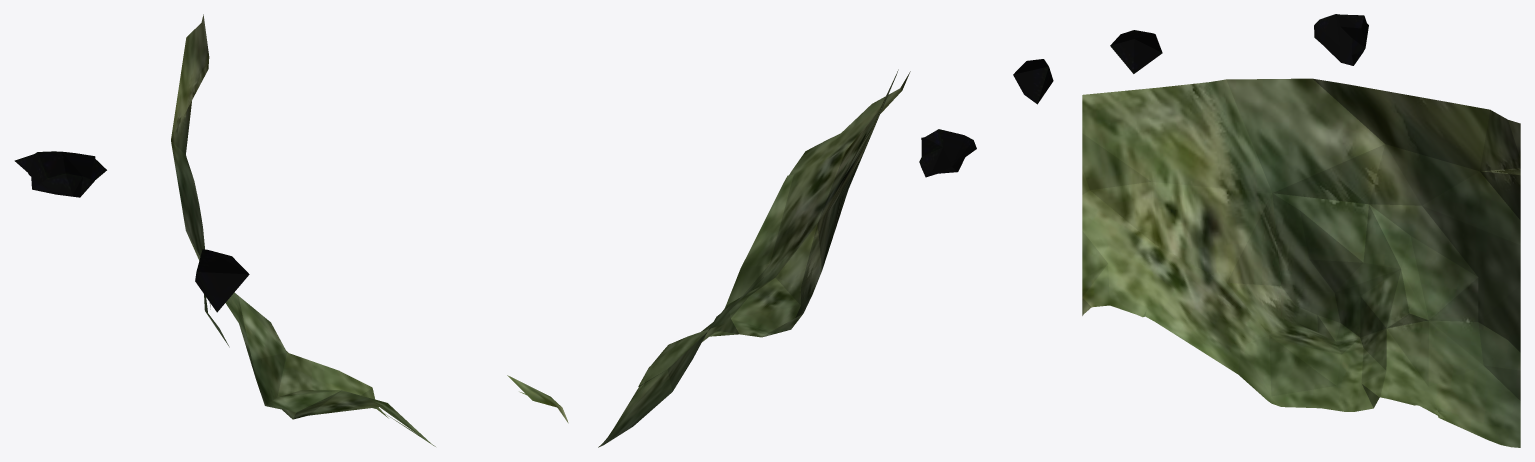
The picture shows the model from 3 angles, left to right: view 1: azimuth 30°, elevation 25°; view 2: azimuth 150°, elevation 25°; view 3: azimuth 270°, elevation 25°; orthographic projection. The views are drawn at different scales.
Bounding box in the file's own units: 2.19 × 2.2 × 2.95.
Materials: 2 (2 with a texture image).
